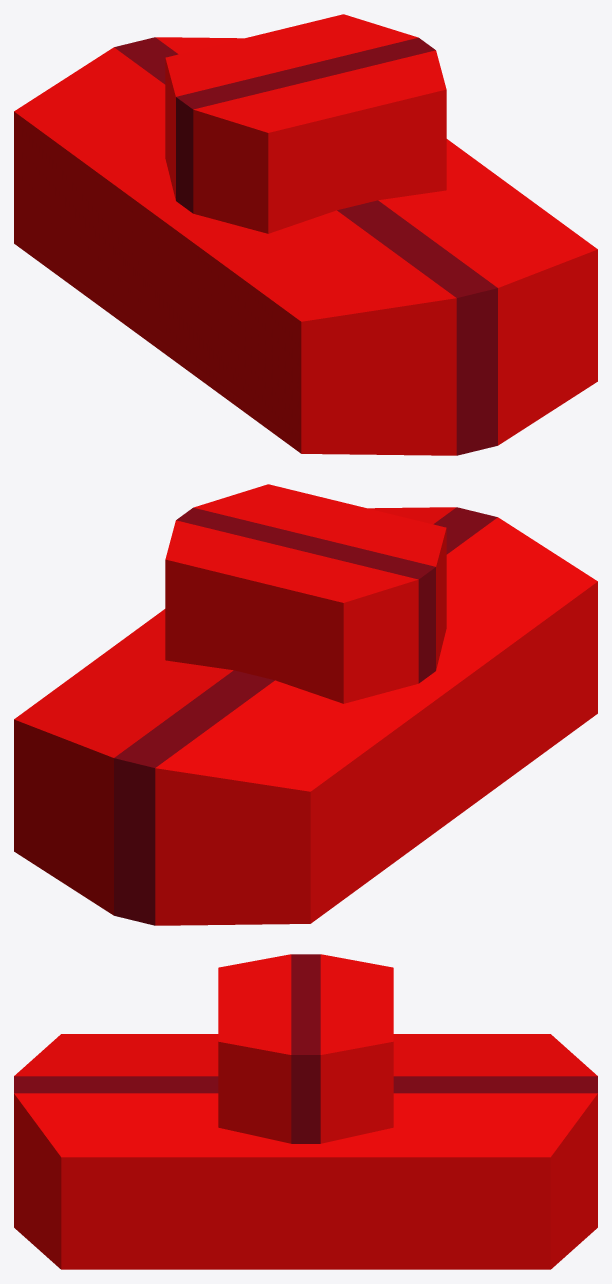
The model's file is TestCube 1.fbx.
3 views of the same model, one above another, from view 1: azimuth 30°, elevation 25°; view 2: azimuth 150°, elevation 25°; view 3: azimuth 270°, elevation 25° (orthographic). The views are drawn at different scales.
Visible parts, largest first — view 1: Cube, Cube.001; view 2: Cube, Cube.001; view 3: Cube, Cube.001.
Part boxes in pixels (x1,y1,x2,y2): Cube: [14, 37, 597, 455]; Cube.001: [165, 14, 446, 233]; Cube: [14, 507, 597, 925]; Cube.001: [165, 484, 446, 703]; Cube: [14, 1034, 597, 1269]; Cube.001: [218, 954, 393, 1143].
Bounding box in the file's own units: 879 × 713 × 1760.
